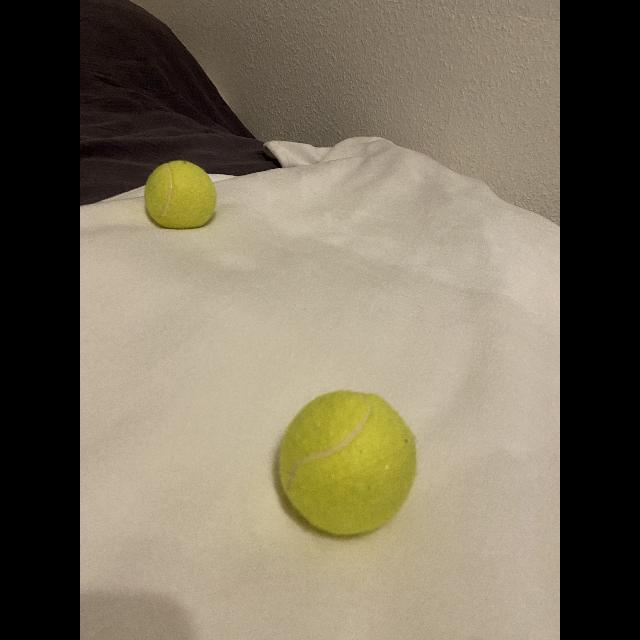Tennisball: (279, 391, 416, 535), (144, 160, 217, 229)
